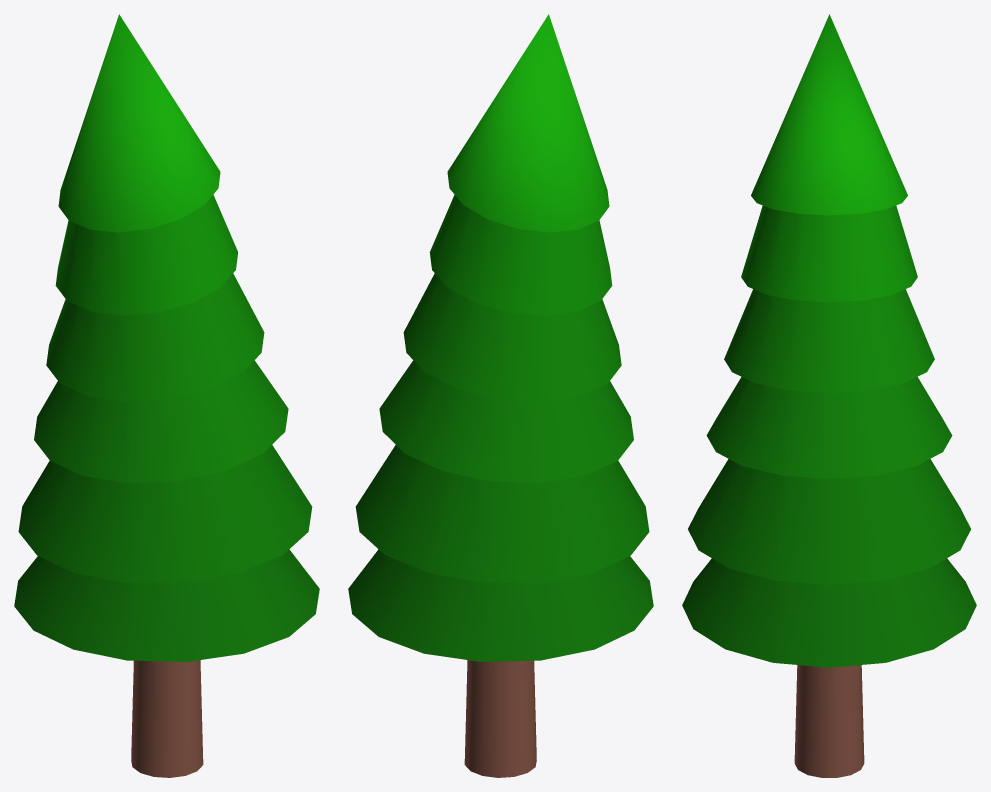
File: Spruce_Cold_Green_Thin_3.fbx
3 views of the same model, side by side, from view 1: azimuth 30°, elevation 25°; view 2: azimuth 150°, elevation 25°; view 3: azimuth 270°, elevation 25° (orthographic). The views are drawn at different scales.
Parts seen in each view (by area): view 1: Cylinder.974, Cylinder.975, Cylinder.973, Cylinder.972, Cylinder.970, Cylinder.971, Cylinder.976; view 2: Cylinder.974, Cylinder.975, Cylinder.973, Cylinder.972, Cylinder.970, Cylinder.971, Cylinder.976; view 3: Cylinder.974, Cylinder.975, Cylinder.972, Cylinder.970, Cylinder.973, Cylinder.971, Cylinder.976.
Boxes of the visible parts, bbox=[...] form: Cylinder.974: bbox=[18, 445, 312, 582]; Cylinder.975: bbox=[14, 549, 319, 661]; Cylinder.973: bbox=[58, 14, 220, 232]; Cylinder.972: bbox=[34, 360, 288, 483]; Cylinder.970: bbox=[46, 273, 264, 401]; Cylinder.971: bbox=[55, 194, 238, 315]; Cylinder.976: bbox=[131, 660, 203, 777]; Cylinder.974: bbox=[355, 445, 649, 582]; Cylinder.975: bbox=[348, 549, 653, 661]; Cylinder.973: bbox=[447, 14, 609, 232]; Cylinder.972: bbox=[379, 360, 633, 483]; Cylinder.970: bbox=[403, 273, 621, 401]; Cylinder.971: bbox=[429, 194, 612, 315]; Cylinder.976: bbox=[464, 660, 536, 777]; Cylinder.974: bbox=[688, 459, 970, 584]; Cylinder.975: bbox=[682, 558, 976, 667]; Cylinder.972: bbox=[706, 377, 952, 478]; Cylinder.970: bbox=[724, 289, 934, 393]; Cylinder.973: bbox=[751, 14, 907, 215]; Cylinder.971: bbox=[741, 205, 917, 302]; Cylinder.976: bbox=[794, 665, 864, 777].
Size of the model in its own units: 195 by 532 by 195.
